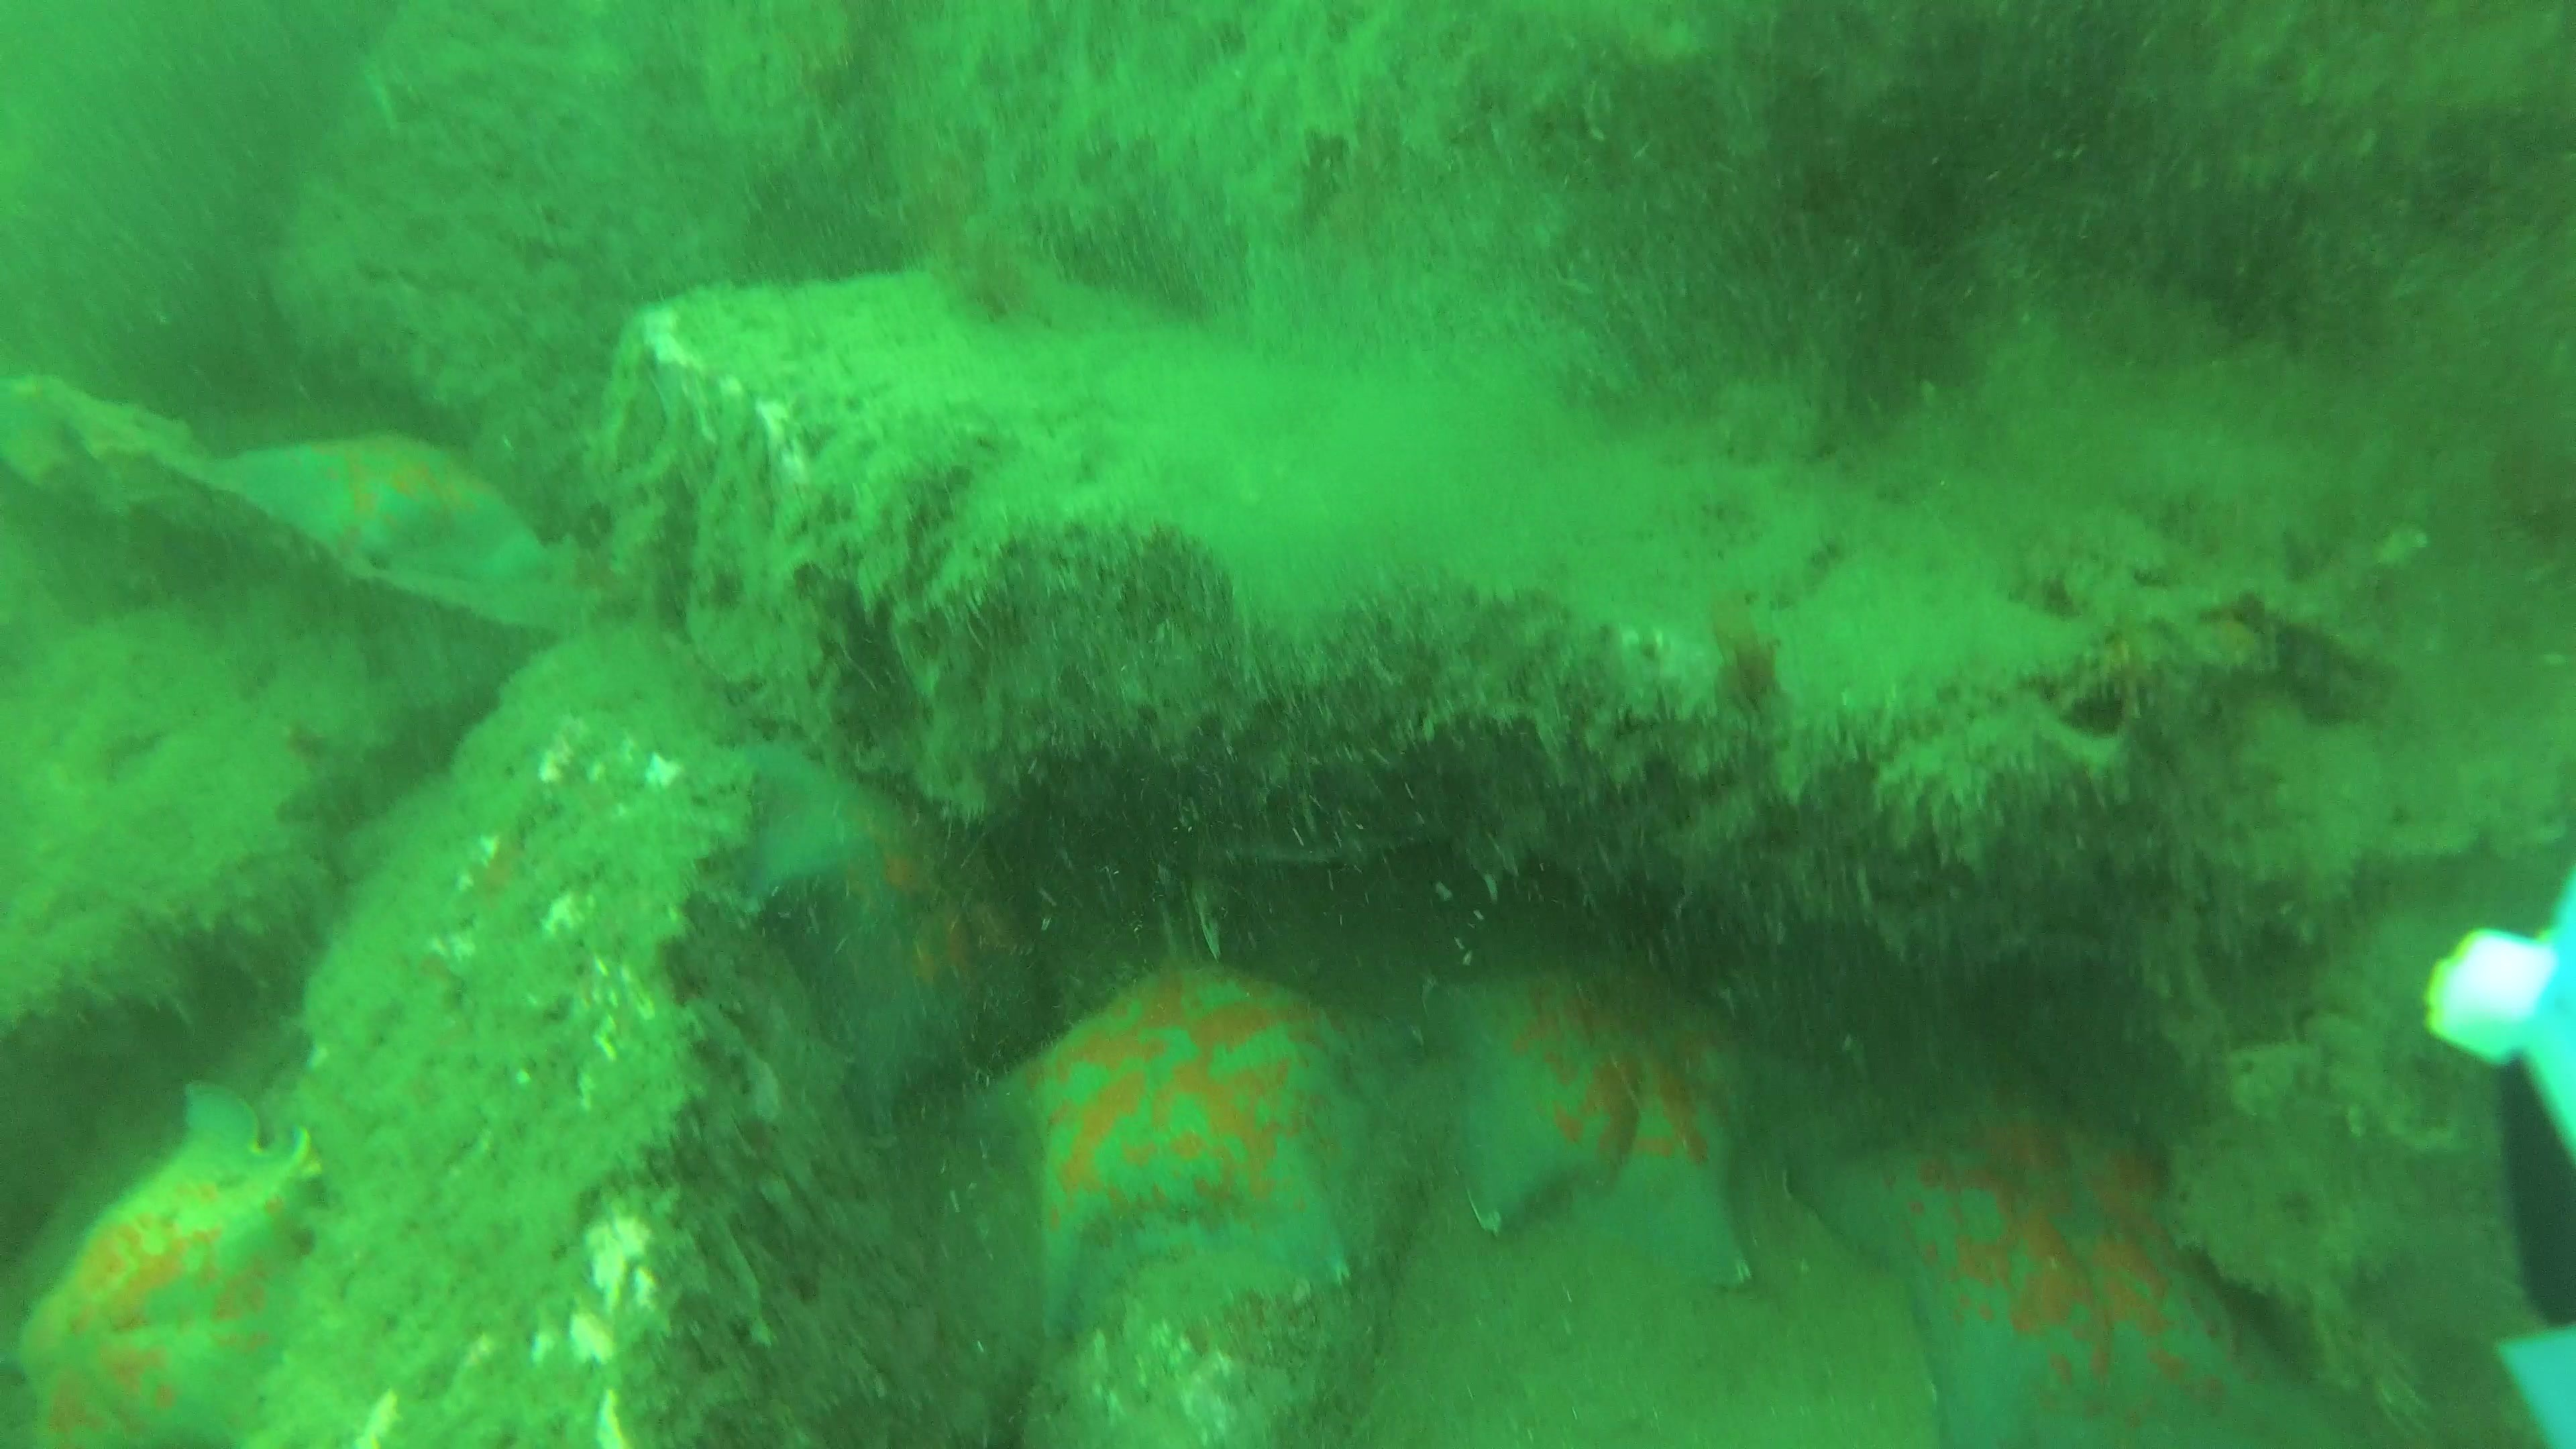starfish: (1794, 1077, 2341, 1449), (975, 952, 1410, 1346), (14, 1077, 326, 1449), (1419, 952, 1757, 1292), (740, 738, 1035, 1122), (219, 437, 547, 596)
